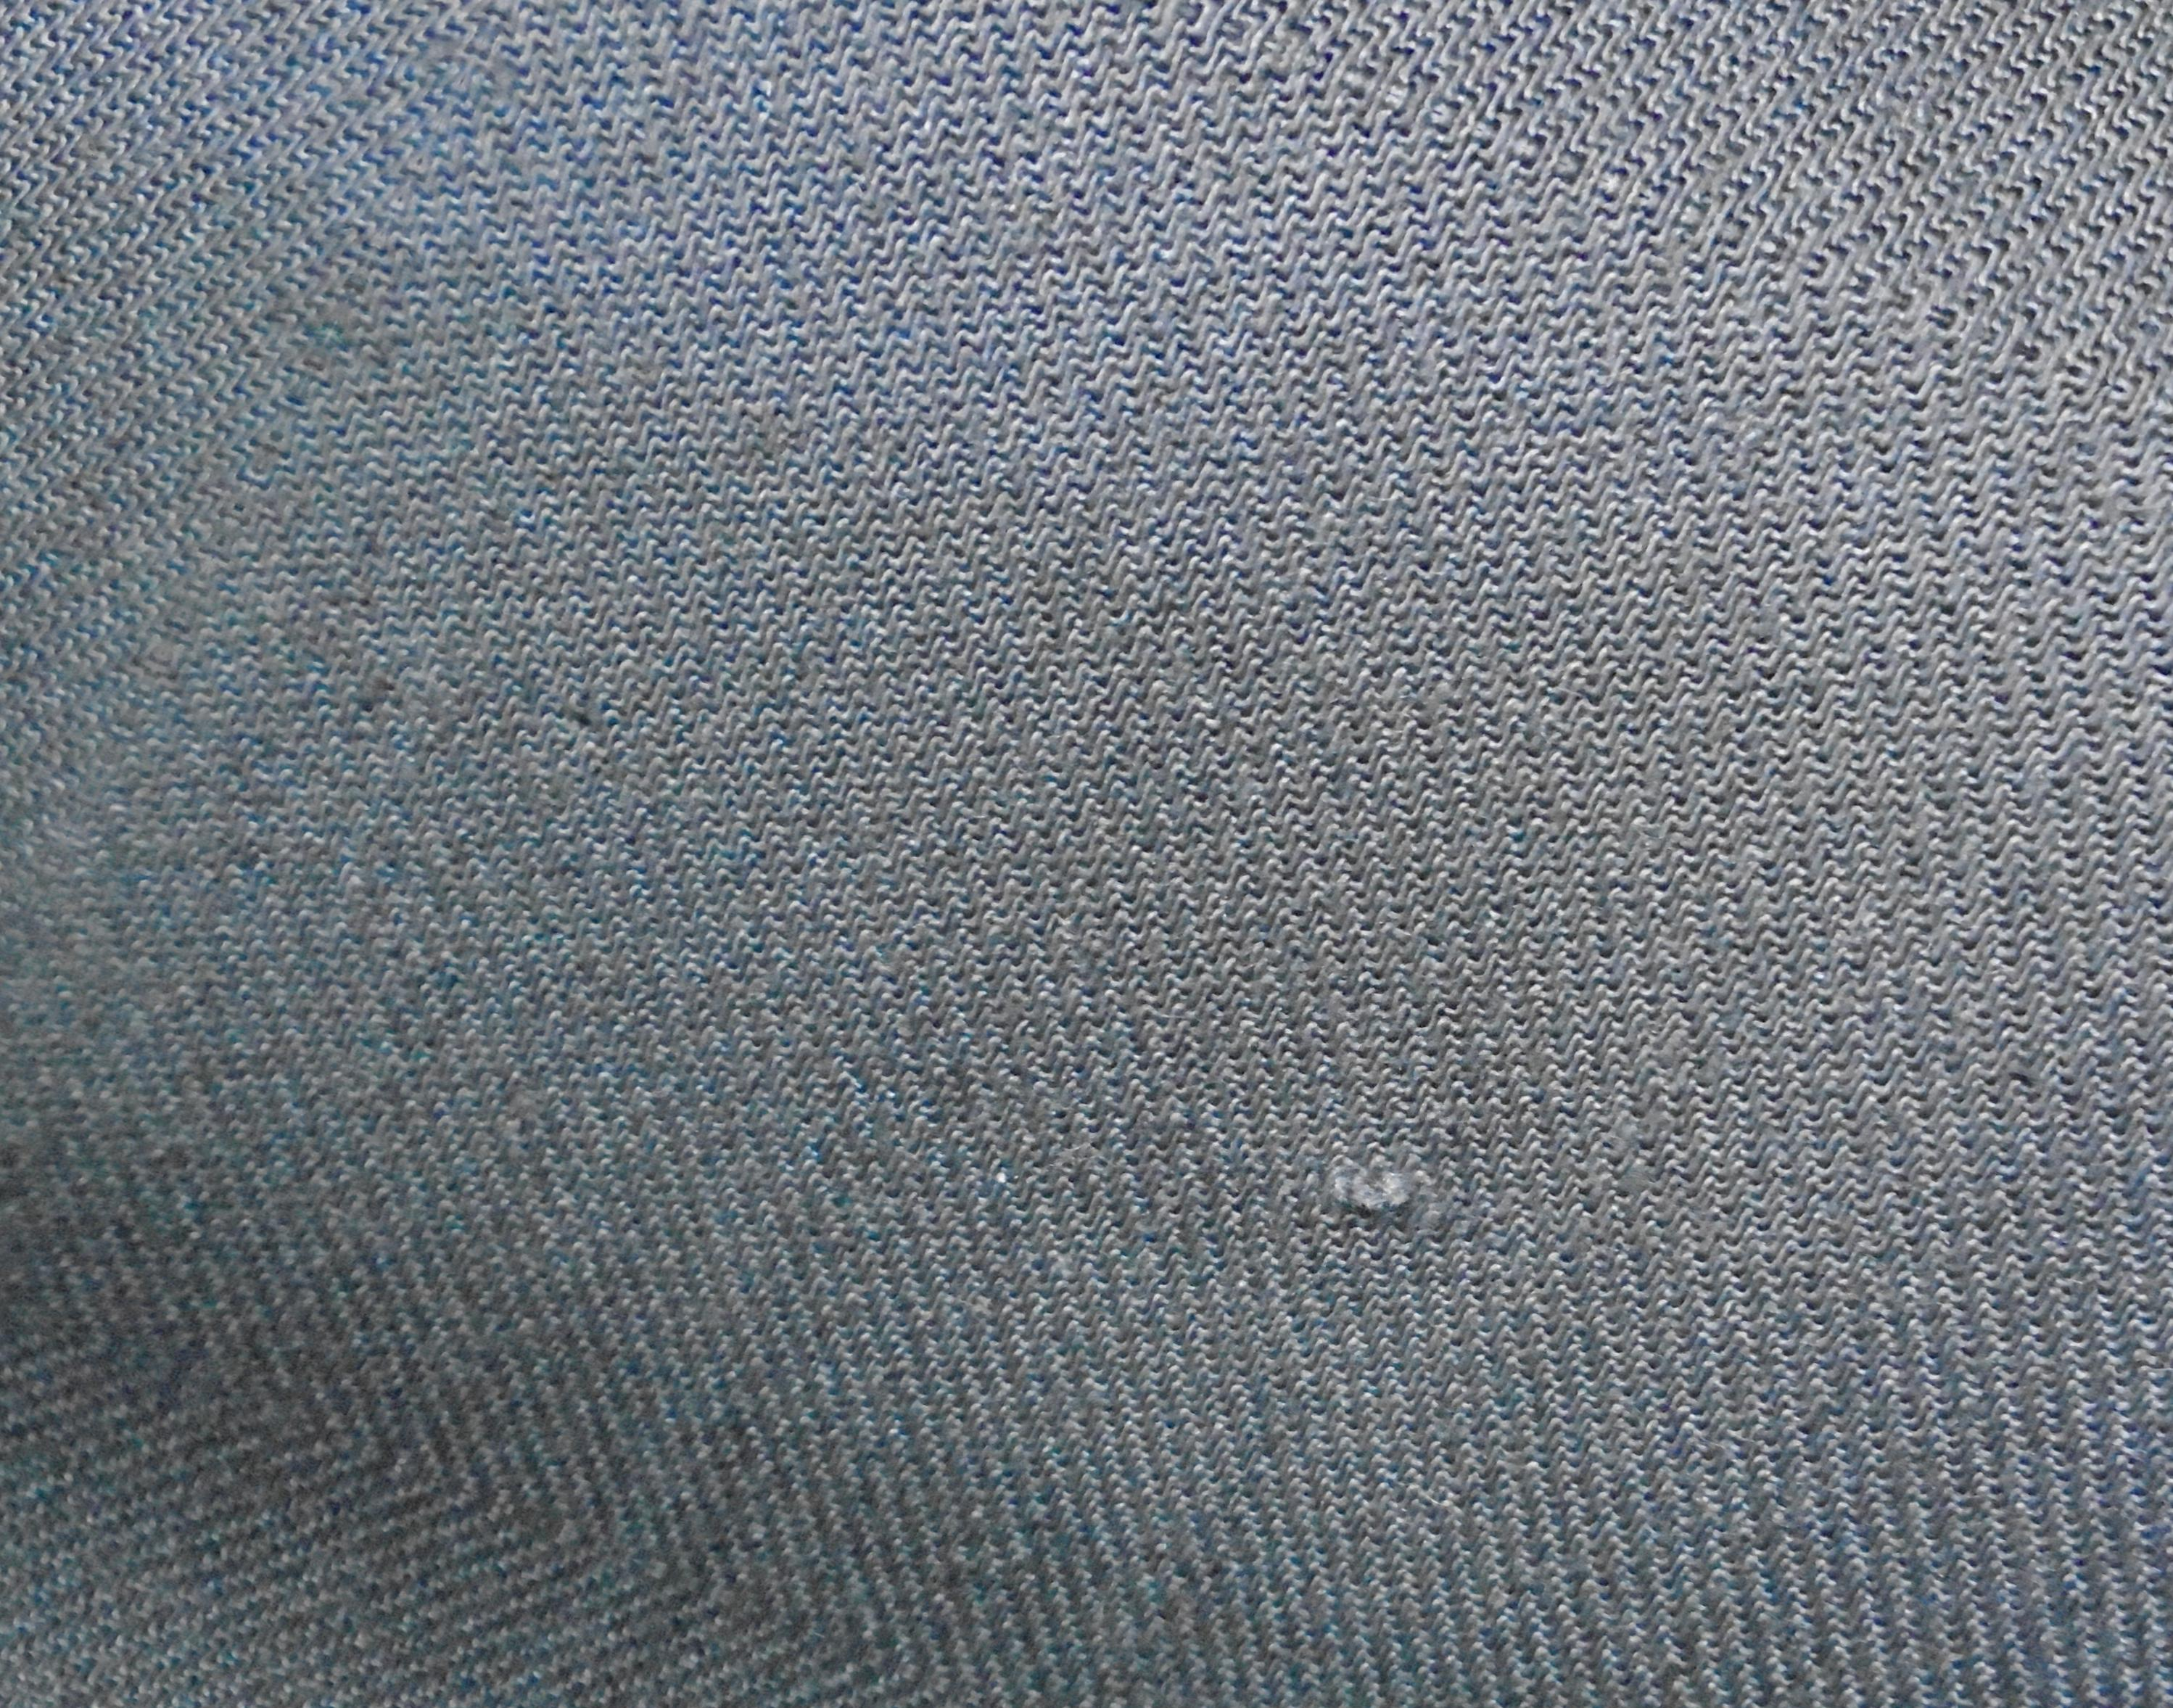knot: (1291, 1120, 1473, 1256)
